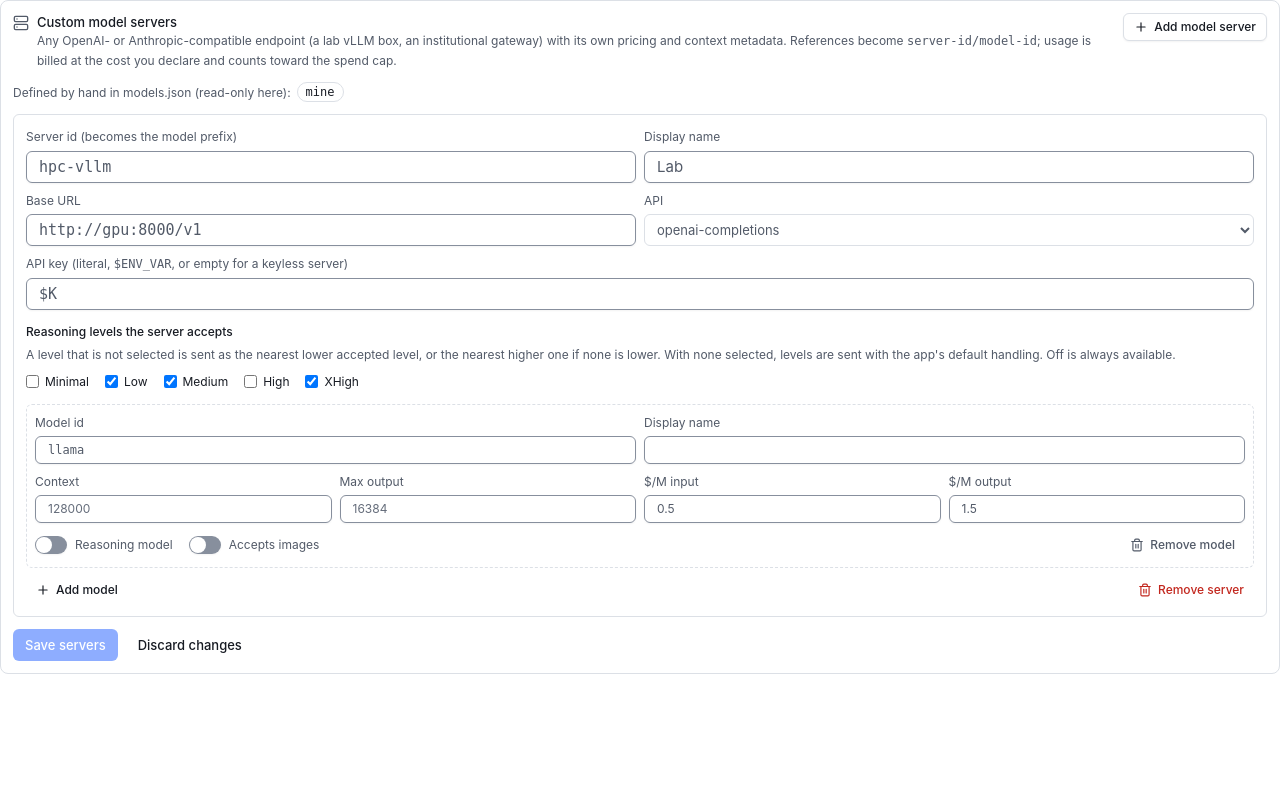
Test: CustomModelsCard › lists foreign providers read-only, edits a managed one and saves
The image size is (1280, 800).
Expected: the text "mine" is shown, left=297, top=82, right=344, bottom=102
Expected: the field named "Server 1 base URL" holds "http://gpu:8000/v1", left=26, top=214, right=636, bottom=246
Click the checkbox labelled "High" at (251,382), box left=244, top=375, right=257, bottom=388
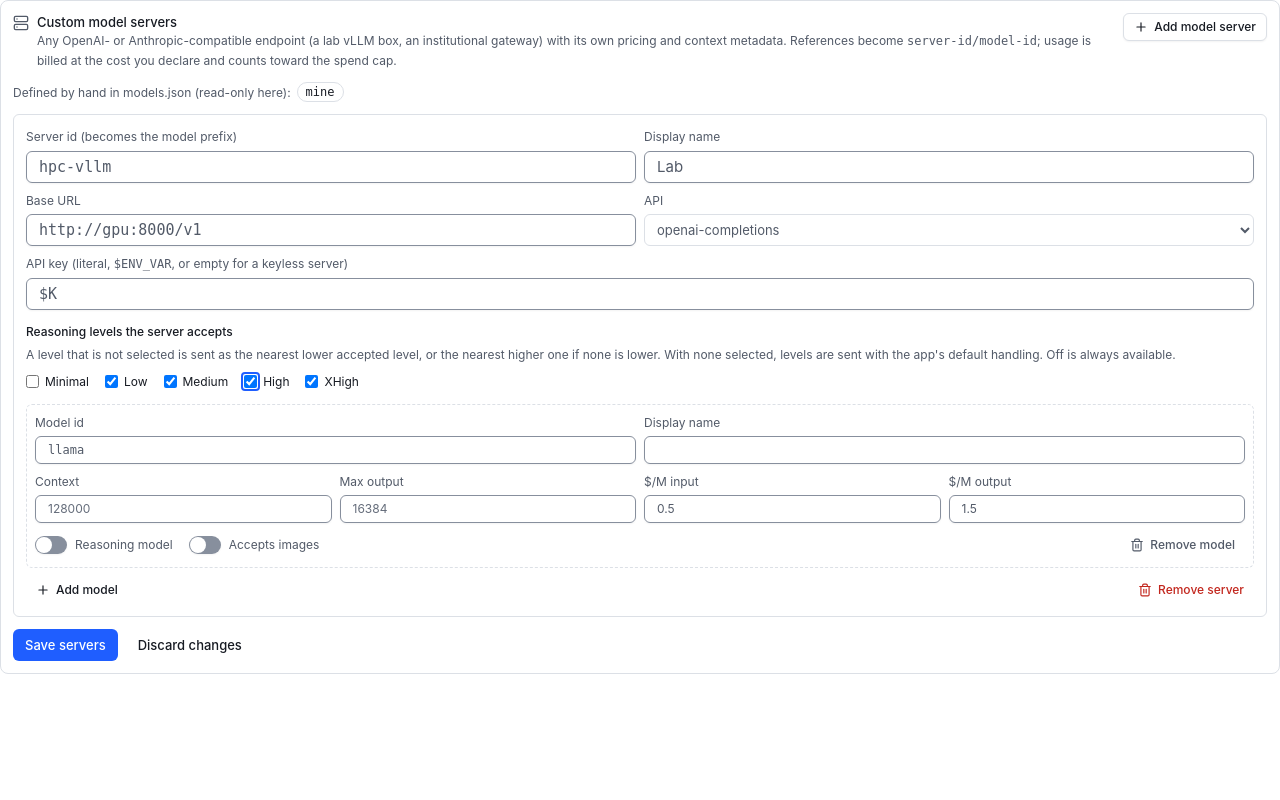
Now the checkbox labelled "High" is checked
Click the checkbox labelled "High" at (251,382), box left=244, top=375, right=257, bottom=388
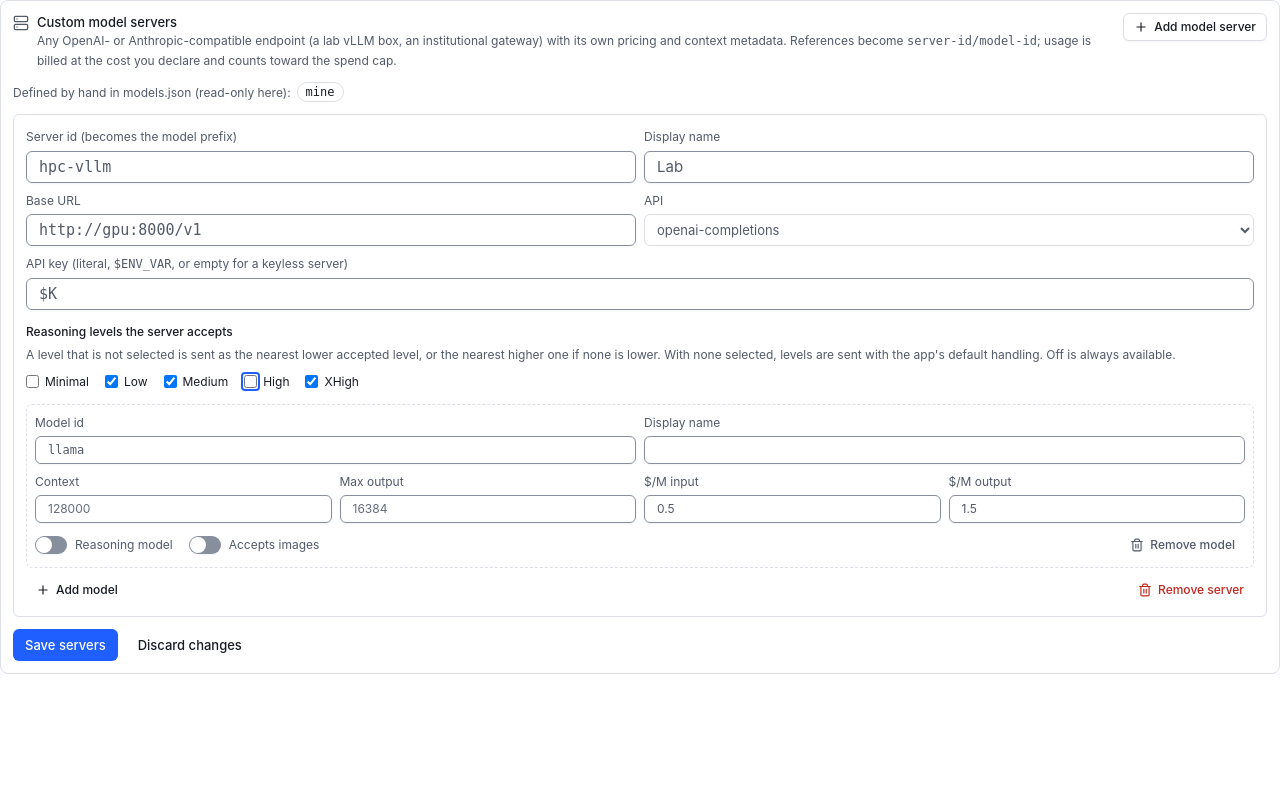
Replace the text in the field named "Server 1 base URL" with "http://gpu-2:8000/v1" at (331,230), box left=26, top=214, right=636, bottom=246
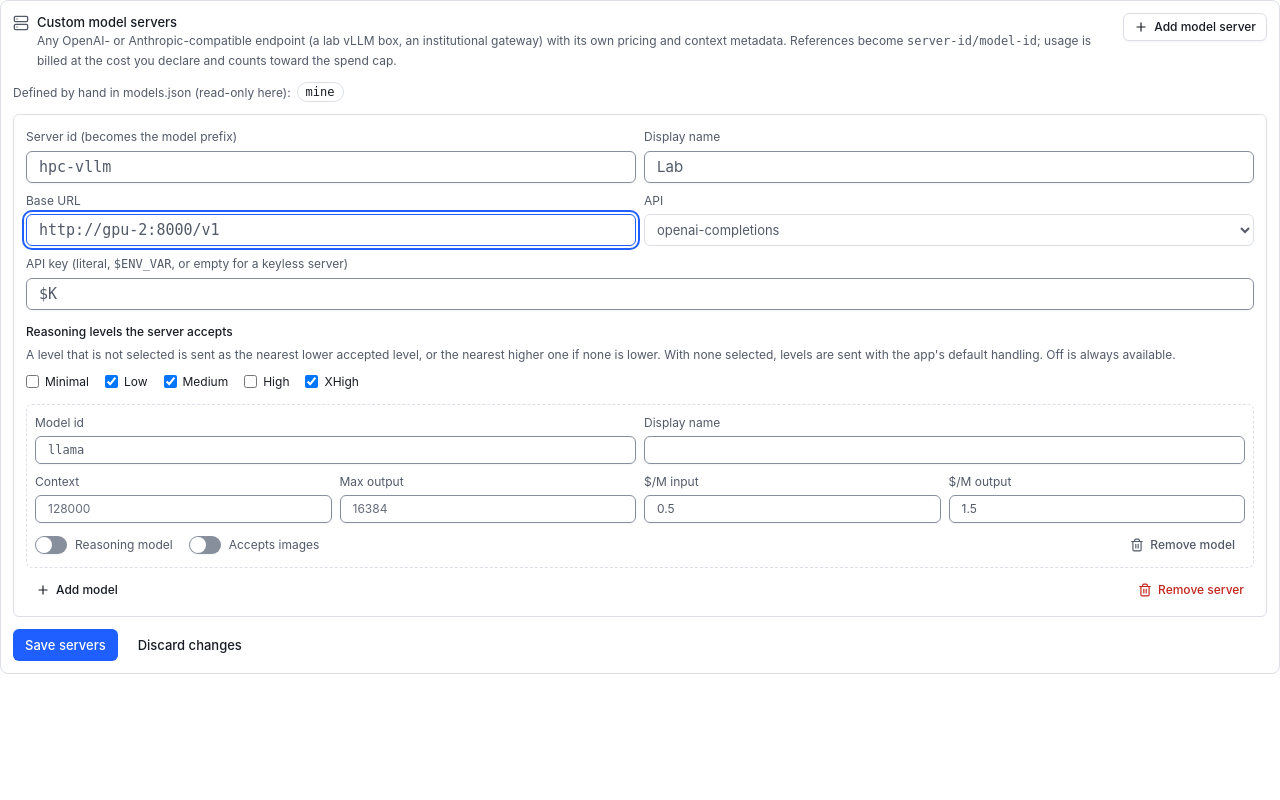
Click the button "Save servers" at (65,645), box left=13, top=629, right=118, bottom=661
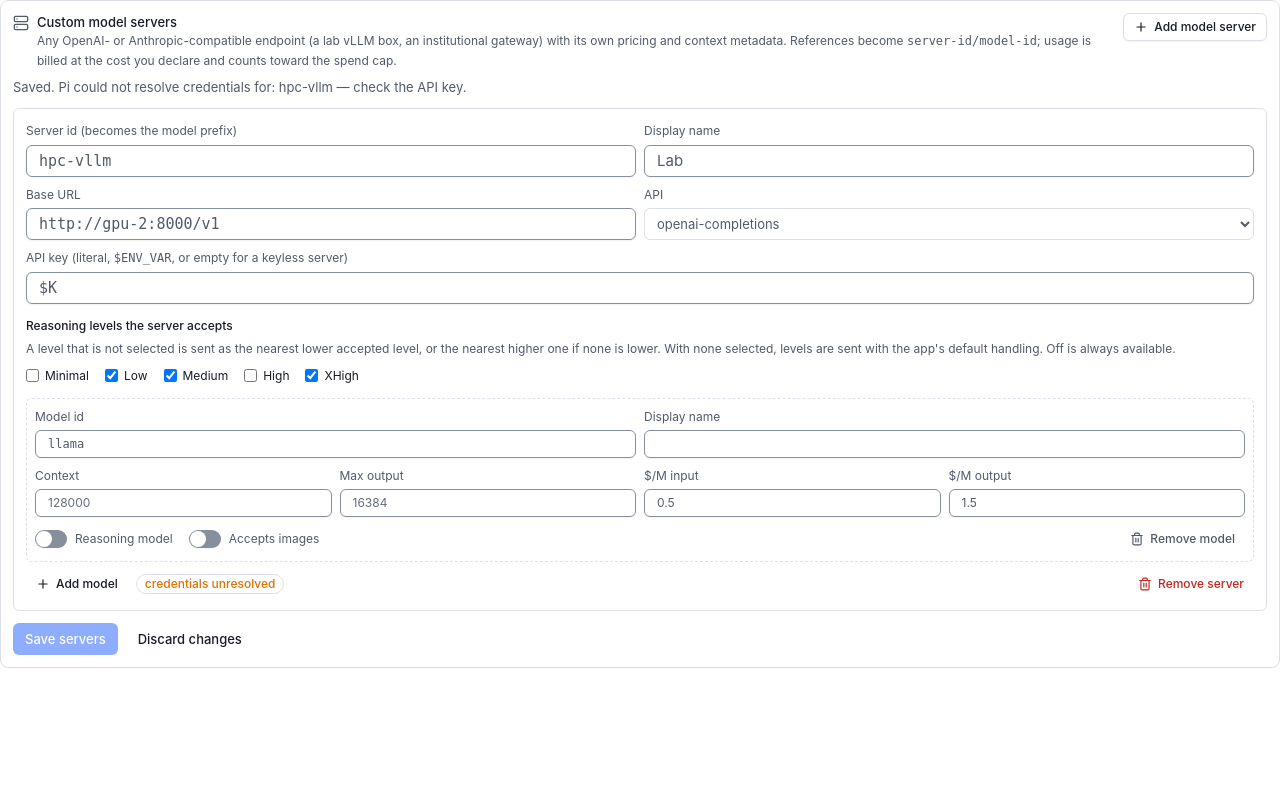
Now the text "could not resolve credentials for: hpc-vllm" is shown, box left=13, top=79, right=466, bottom=95
